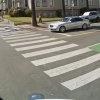Crosswalk: (0, 23, 87, 97)
